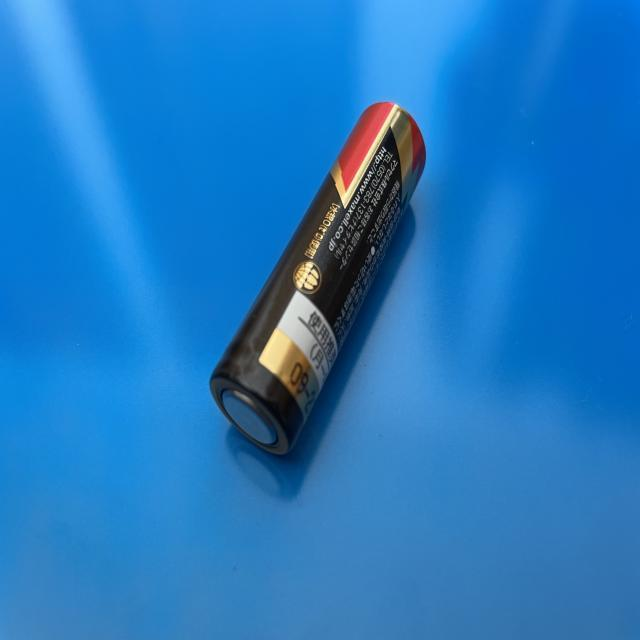hazardous waste: (209, 98, 432, 478)
